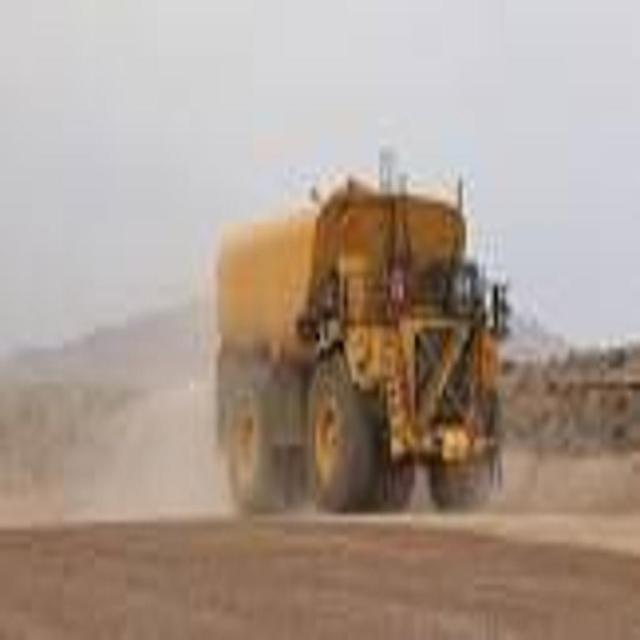dump_truck: (214, 140, 511, 535)
